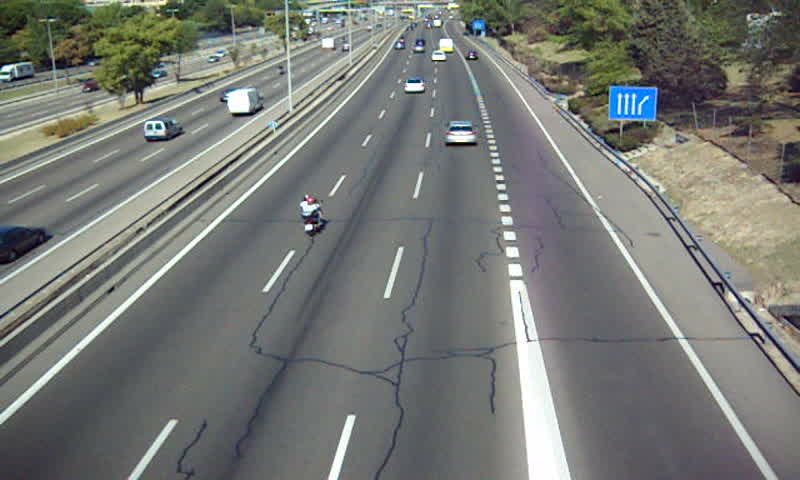car: (443, 119, 478, 148), (402, 77, 426, 93)
motorcycle: (299, 194, 325, 234)
